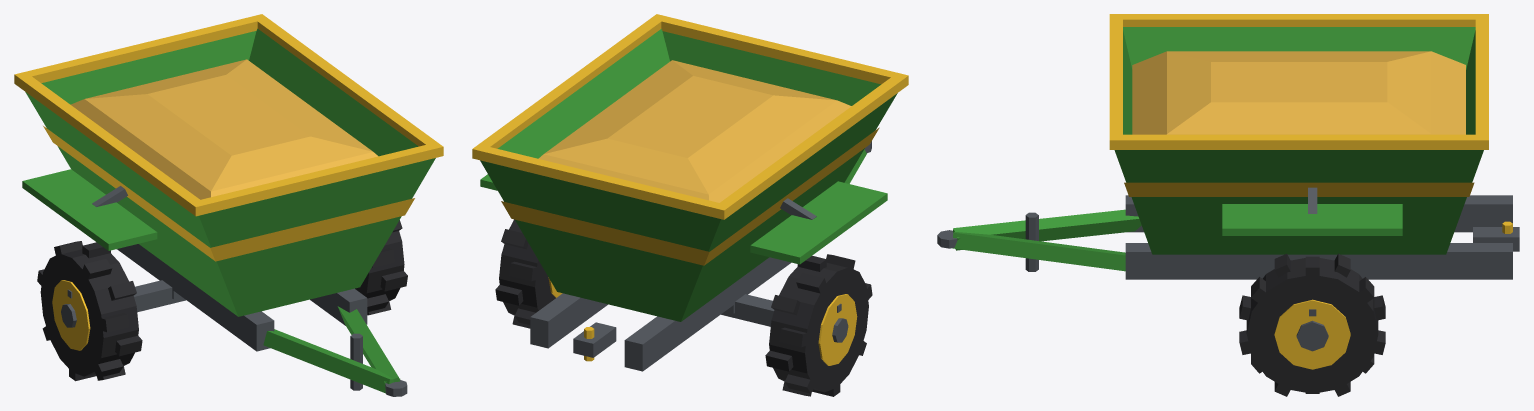
File: cart.glb
3 renders of one model, left to right at view 1: azimuth 30°, elevation 25°; view 2: azimuth 150°, elevation 25°; view 3: azimuth 270°, elevation 25°, orthographic. The views are drawn at different scales.
Parts seen in each view (by area): view 1: hopper, grain, hopper_lip, tyre_R, fender_R, hopper_band, rails, tread_R, tongue_R, rim_R, tyre_L, tongue_L (+3 smaller); view 2: hopper, grain, hopper_lip, rails, tyre_R, fender_R, hopper_band, tread_R, tyre_L, rim_R, tread_L, axle (+2 smaller); view 3: hopper, grain, hopper_lip, rails, tyre_L, fender_L, hopper_band, rim_L, tongue_L, tongue_R, tread_L, tow_bar (+2 smaller).
Part boxes in pixels (box(x1,y1,x2,y2)): hopper: box(25, 28, 435, 316); grain: box(71, 59, 378, 199); hopper_lip: box(14, 14, 443, 216); tyre_R: box(40, 249, 138, 376); fender_R: box(22, 169, 157, 250); hopper_band: box(43, 126, 414, 261); rails: box(117, 244, 367, 351); tread_R: box(37, 241, 142, 381); tongue_R: box(263, 329, 400, 393); rim_R: box(52, 280, 90, 350); tyre_L: box(355, 231, 404, 300); tongue_L: box(337, 306, 399, 384); hopper: box(480, 29, 897, 321); grain: box(538, 60, 851, 202); hopper_lip: box(472, 14, 908, 219); rails: box(530, 257, 791, 371); tyre_R: box(769, 263, 868, 392); fender_R: box(750, 181, 887, 264); hopper_band: box(501, 127, 879, 265); tread_R: box(765, 254, 872, 396); tyre_L: box(499, 219, 555, 315); rim_R: box(818, 294, 857, 365); tread_L: box(495, 229, 536, 328); axle: box(721, 294, 774, 326); hopper: box(1114, 27, 1483, 254); grain: box(1132, 51, 1465, 134); hopper_lip: box(1109, 14, 1488, 149); rails: box(1125, 195, 1512, 279); tyre_L: box(1246, 258, 1378, 393); fender_L: box(1222, 204, 1402, 235); hopper_band: box(1124, 182, 1474, 196); rim_L: box(1274, 299, 1350, 369); tongue_L: box(952, 232, 1125, 271); tongue_R: box(953, 209, 1141, 250); tread_L: box(1239, 253, 1385, 396); tow_bar: box(1473, 227, 1519, 251).
Size of the model in its own units: 2.84 by 2.04 by 4.36.
